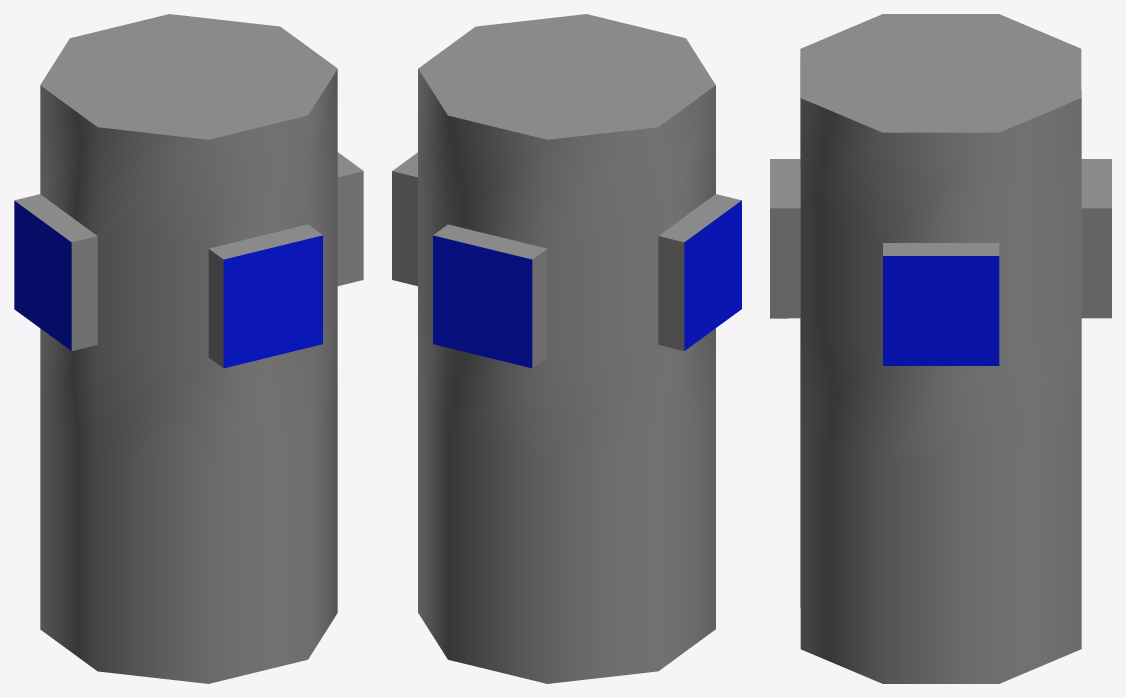
Rendered from NewDicePillar.FBX.
The picture shows the model from 3 angles, left to right: view 1: azimuth 30°, elevation 25°; view 2: azimuth 150°, elevation 25°; view 3: azimuth 270°, elevation 25°; orthographic projection.
Visible parts, largest first — view 1: Dice2.0; view 2: Dice2.0; view 3: Dice2.0.
Part boxes in pixels (<box>): Dice2.0: <box>14,14,363,683</box>; Dice2.0: <box>392,14,741,683</box>; Dice2.0: <box>770,14,1111,683</box>.
Bounding box in the file's own units: 0.562 × 1 × 0.562.
